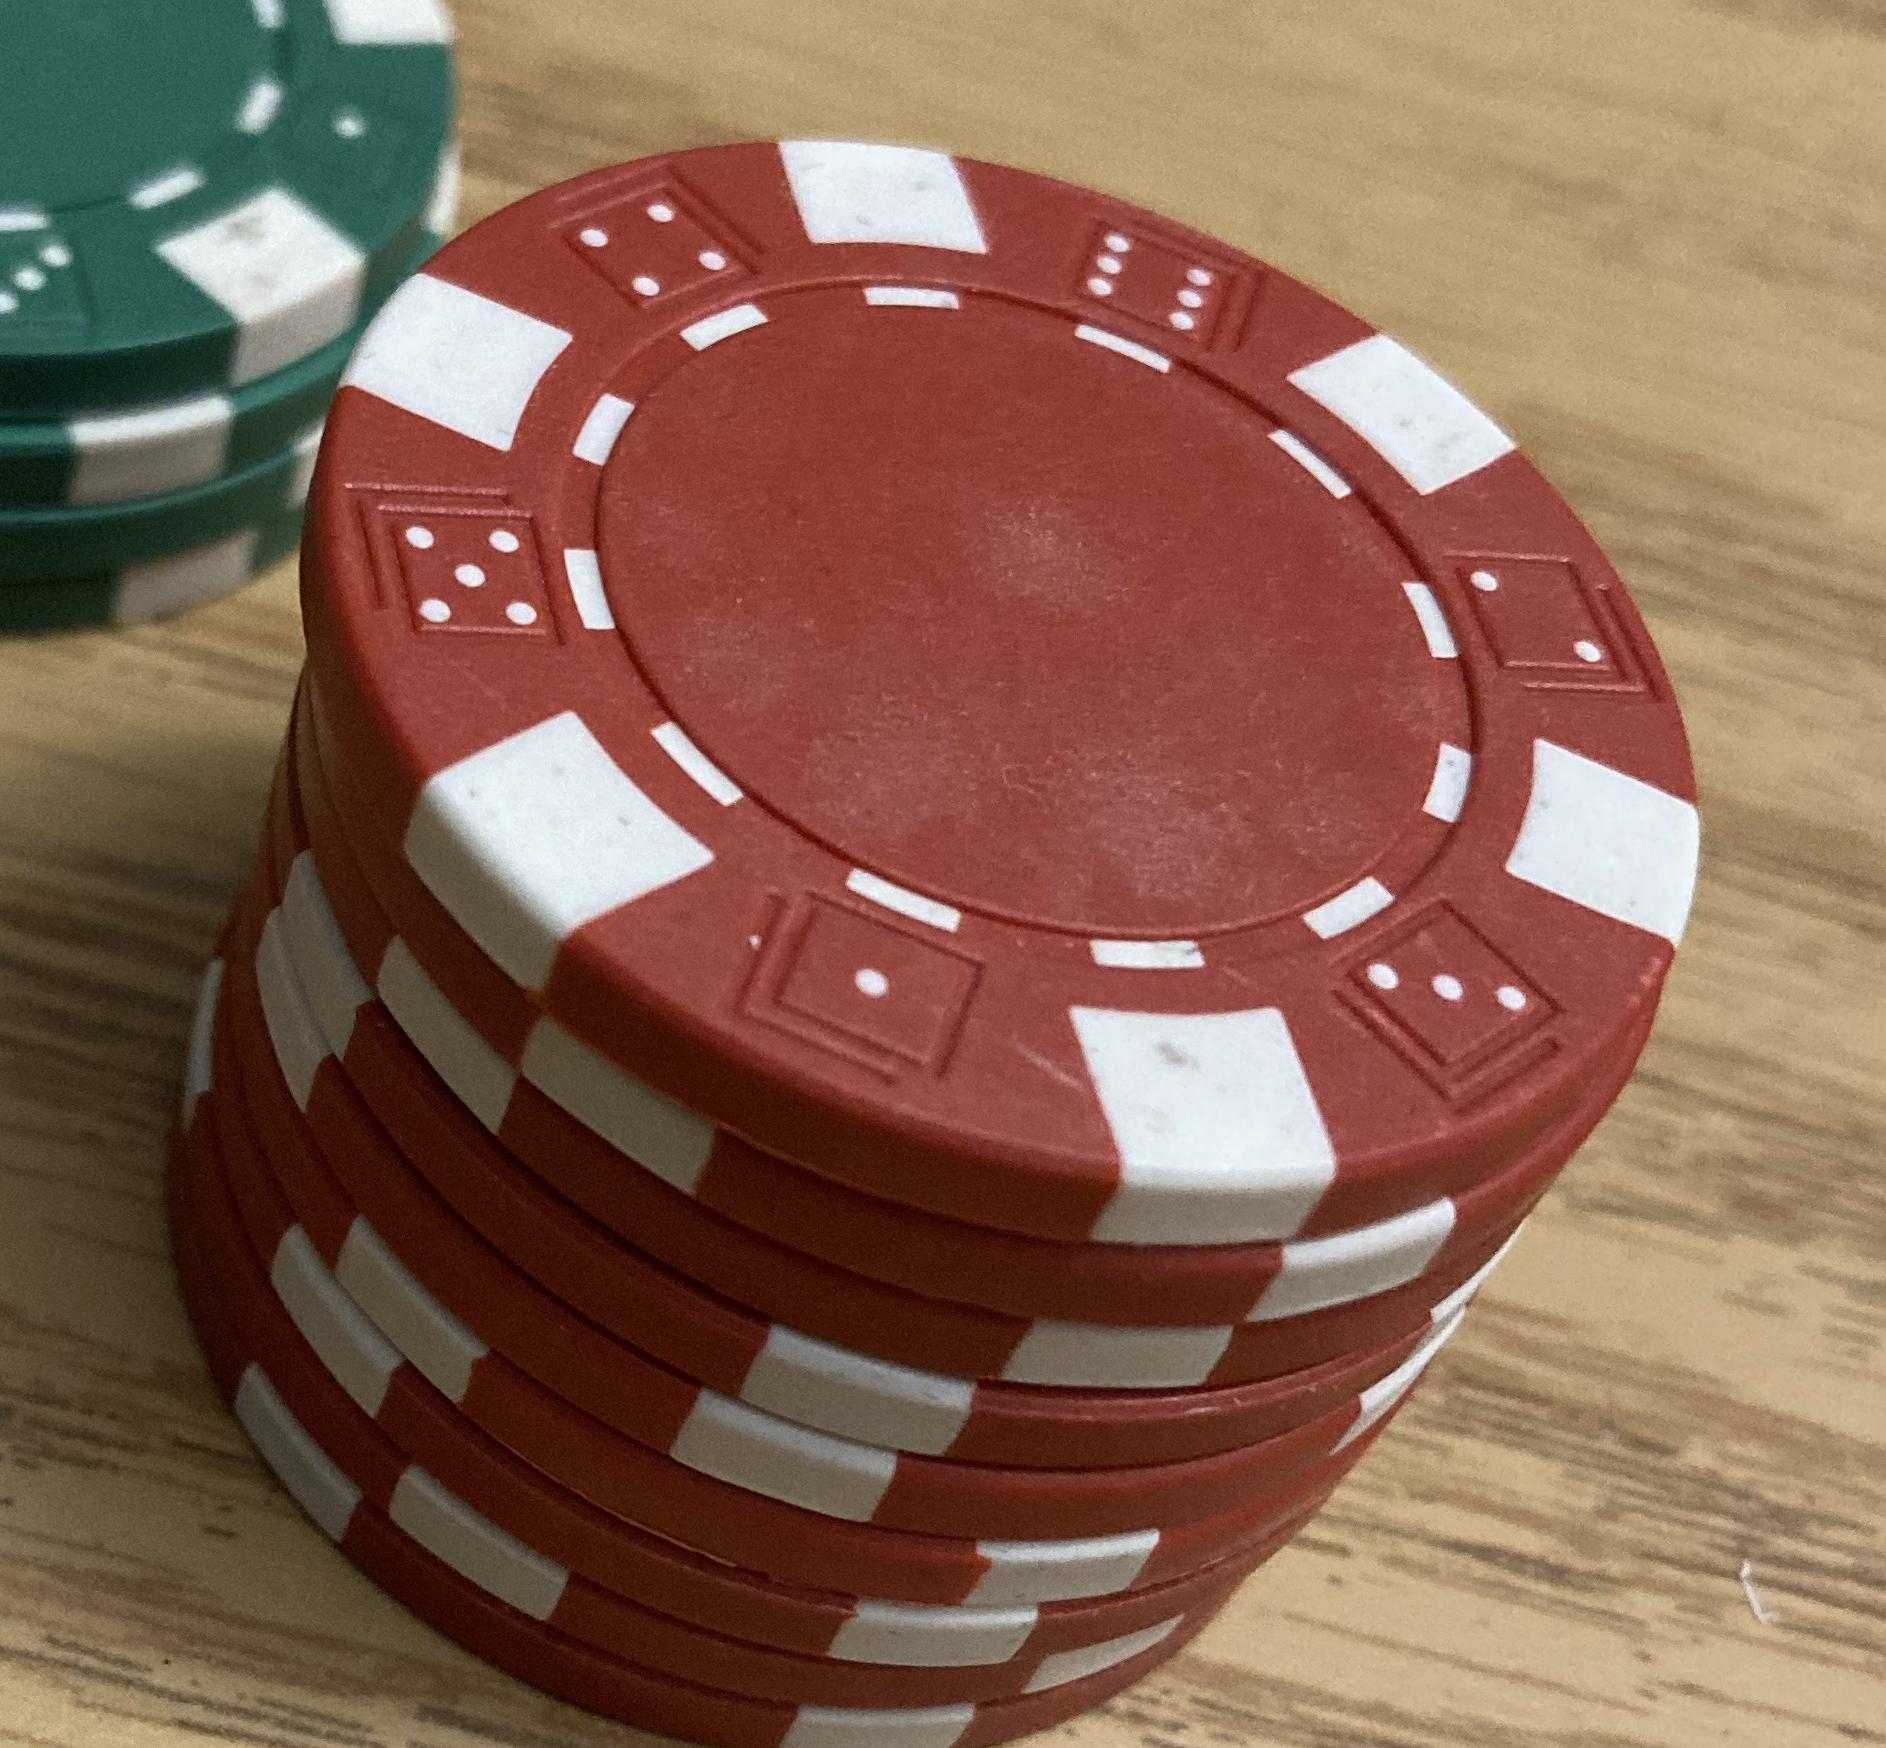Chip: (2, 2, 1886, 1748)
